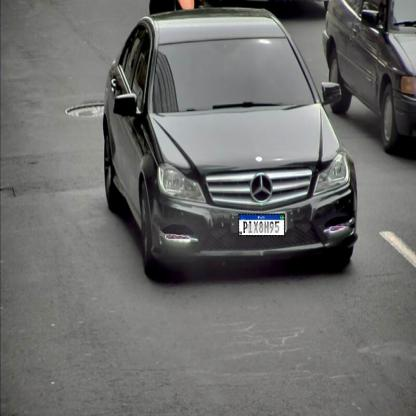PlacaM: (238, 214, 285, 236)
